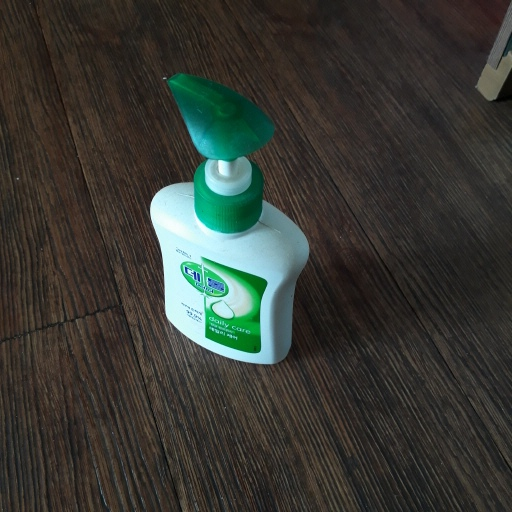Plastic_3: (143, 73, 311, 369)
